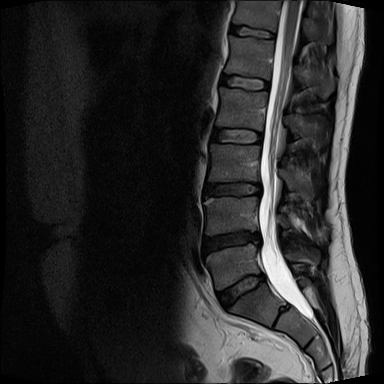Lumbar Disc Bulge (LDB): (208, 264, 275, 314), (196, 225, 269, 261), (198, 177, 272, 202)
Normal IVD: (211, 69, 274, 97), (205, 121, 268, 149), (223, 22, 280, 45)
Spinal Stenosis (SS): (247, 174, 270, 202), (246, 224, 267, 252), (254, 268, 270, 289)
